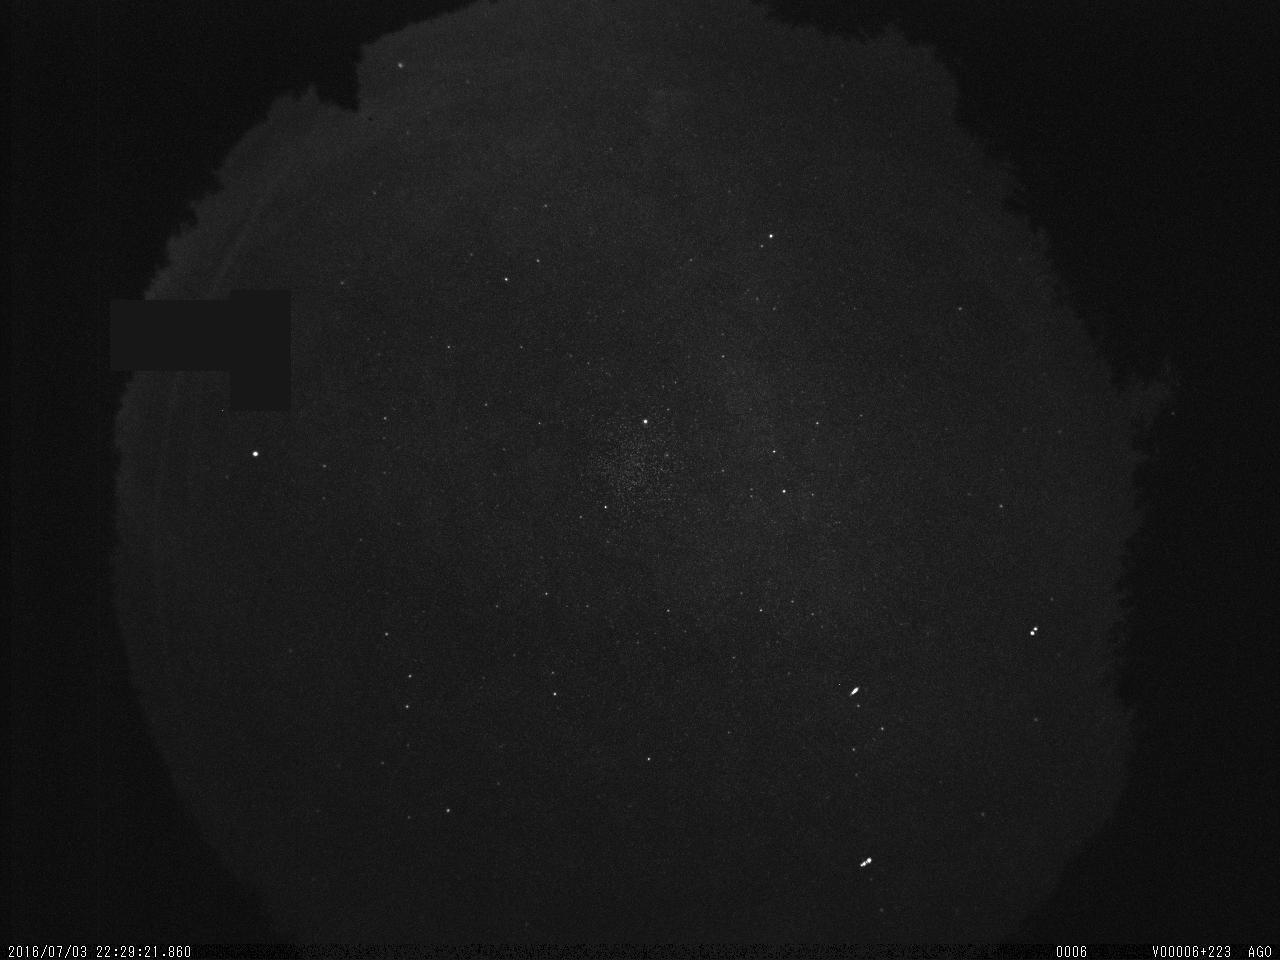meteor: (848, 686, 865, 698)
